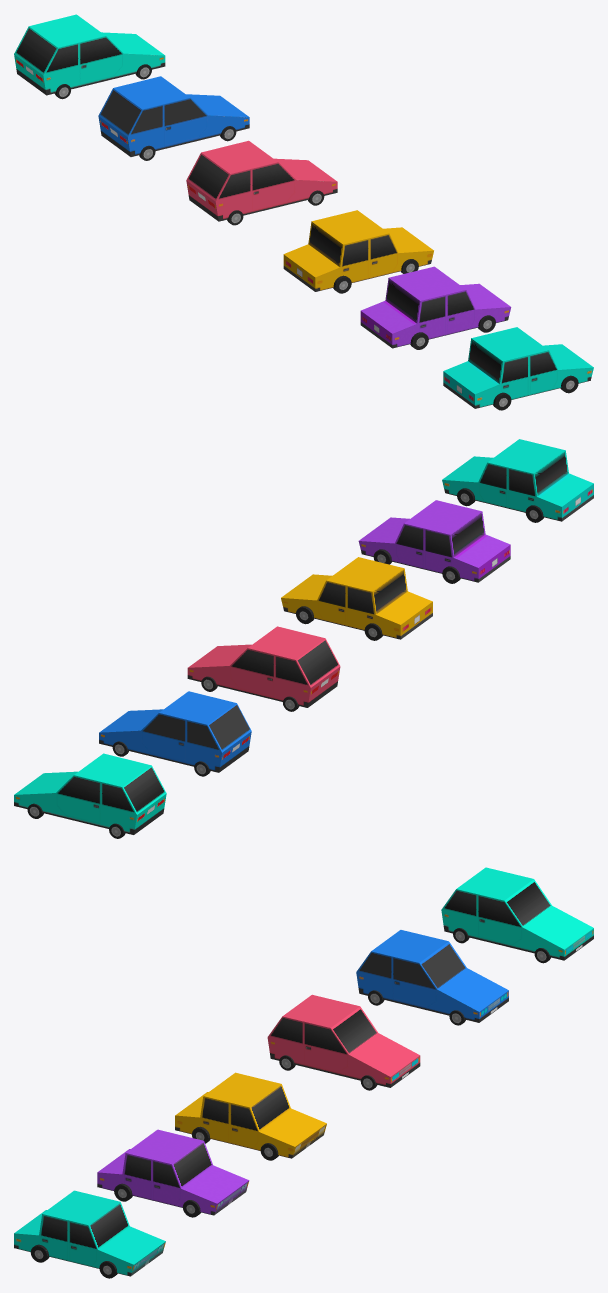
The model's file is cars.glb.
The picture shows the model from 3 angles, top to bottom: view 1: azimuth 30°, elevation 25°; view 2: azimuth 150°, elevation 25°; view 3: azimuth 330°, elevation 25°; orthographic projection.
Visible parts, largest first — view 1: CAR_02, CAR_01, CAR_03, Car_05, Car_06, Car_04; view 2: CAR_03, CAR_02, CAR_01, Car_04, Car_06, Car_05; view 3: CAR_03, CAR_01, CAR_02, Car_05, Car_06, Car_04.
Boxes of the visible parts, x1,y1,x2,y2 form: CAR_02: (98,76,249,160); CAR_01: (14,14,165,99); CAR_03: (186,140,337,225); Car_05: (360,266,511,349); Car_06: (443,327,593,410); Car_04: (283,210,433,293); CAR_03: (187,626,340,711); CAR_02: (99,691,251,776); CAR_01: (14,753,166,838); Car_04: (281,557,432,640); Car_06: (442,439,593,522); Car_05: (358,500,510,583); CAR_03: (267,994,420,1090); CAR_01: (441,867,593,963); CAR_02: (356,930,508,1025); Car_05: (97,1129,249,1217); Car_06: (14,1190,165,1278); Car_04: (175,1072,326,1160).
Size of the model in its own units: 0.7912 by 0.3207 by 5.12.
6 materials, 6 textured.
